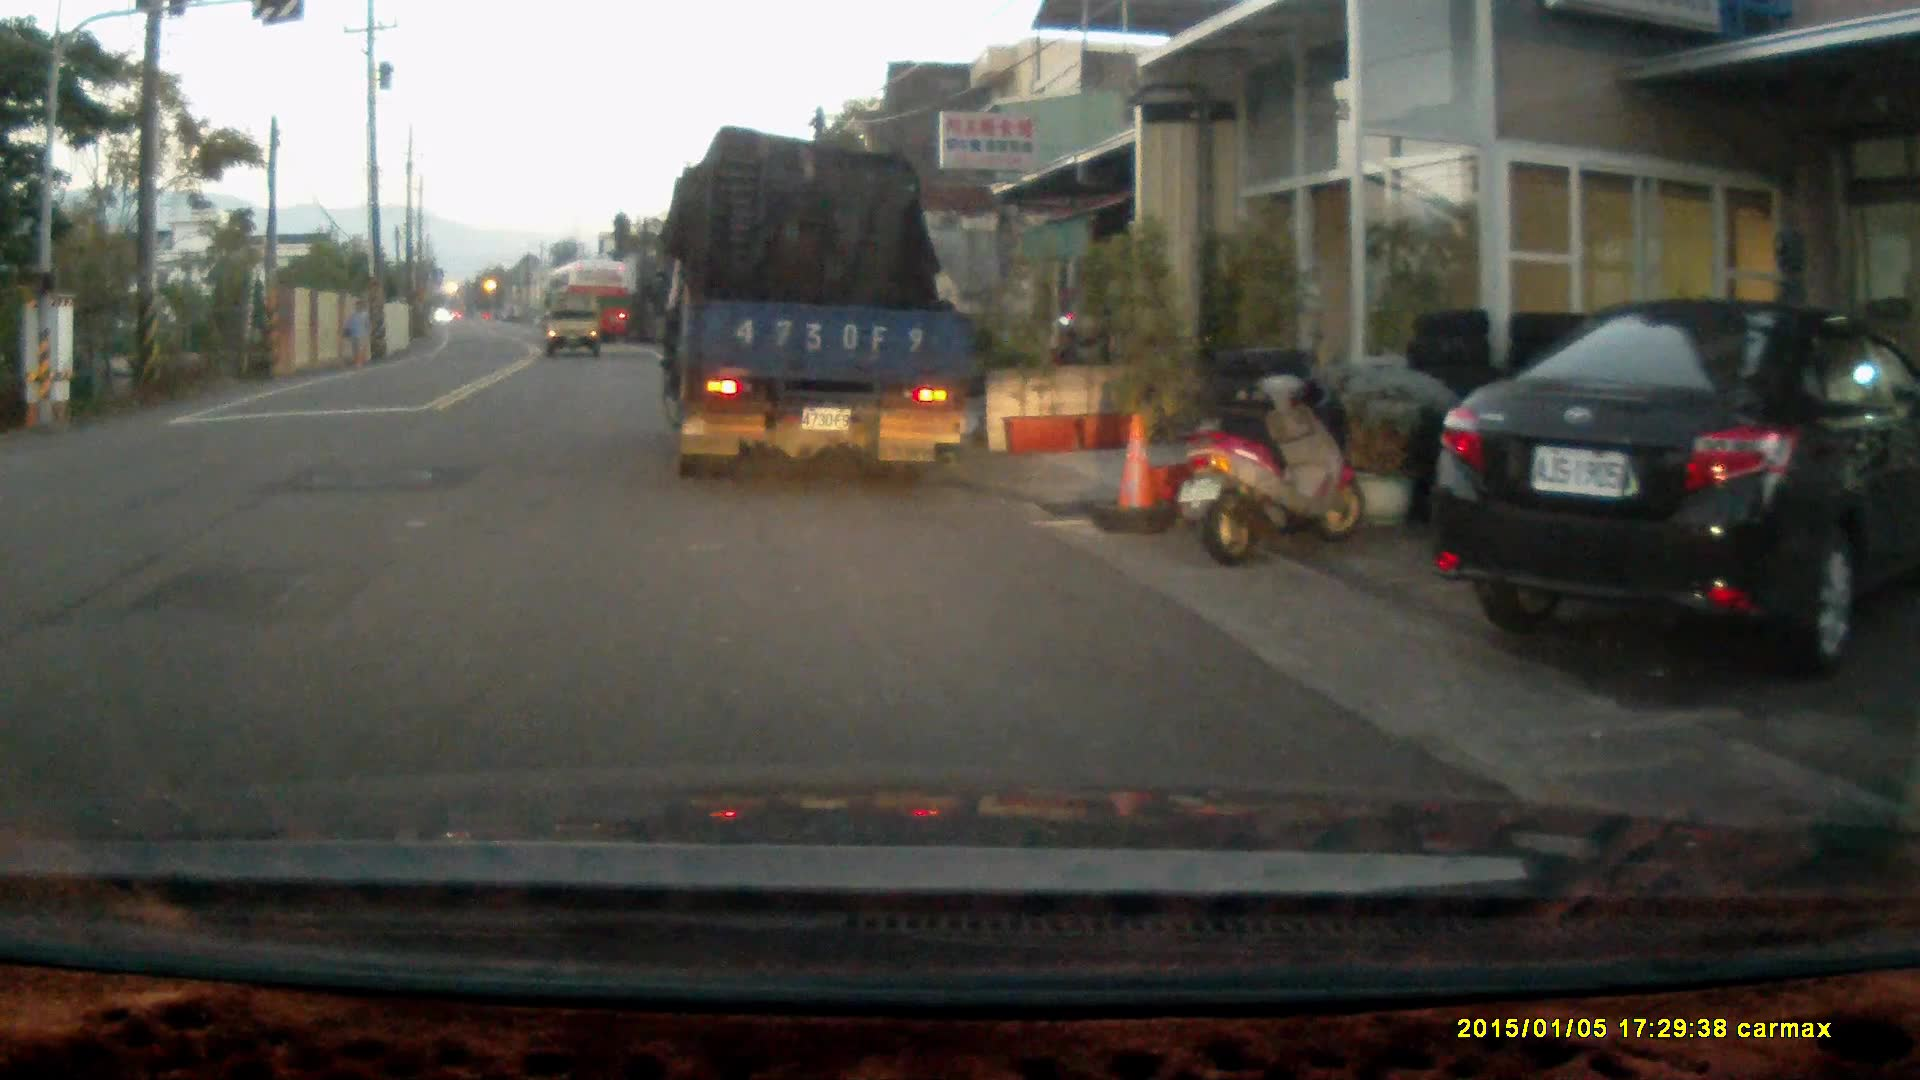pedestrian: (334, 295, 368, 366)
vehicle: (1433, 296, 1920, 679), (657, 133, 969, 492), (544, 260, 631, 338), (545, 288, 603, 361)
